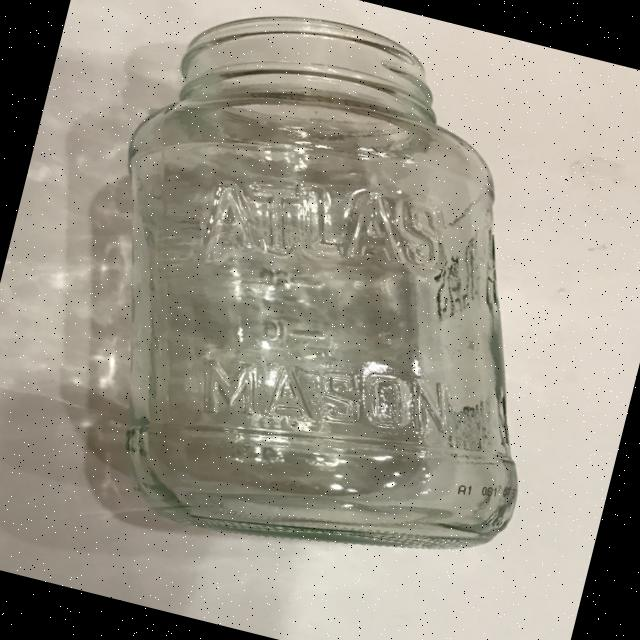glass: (40, 0, 619, 601)
